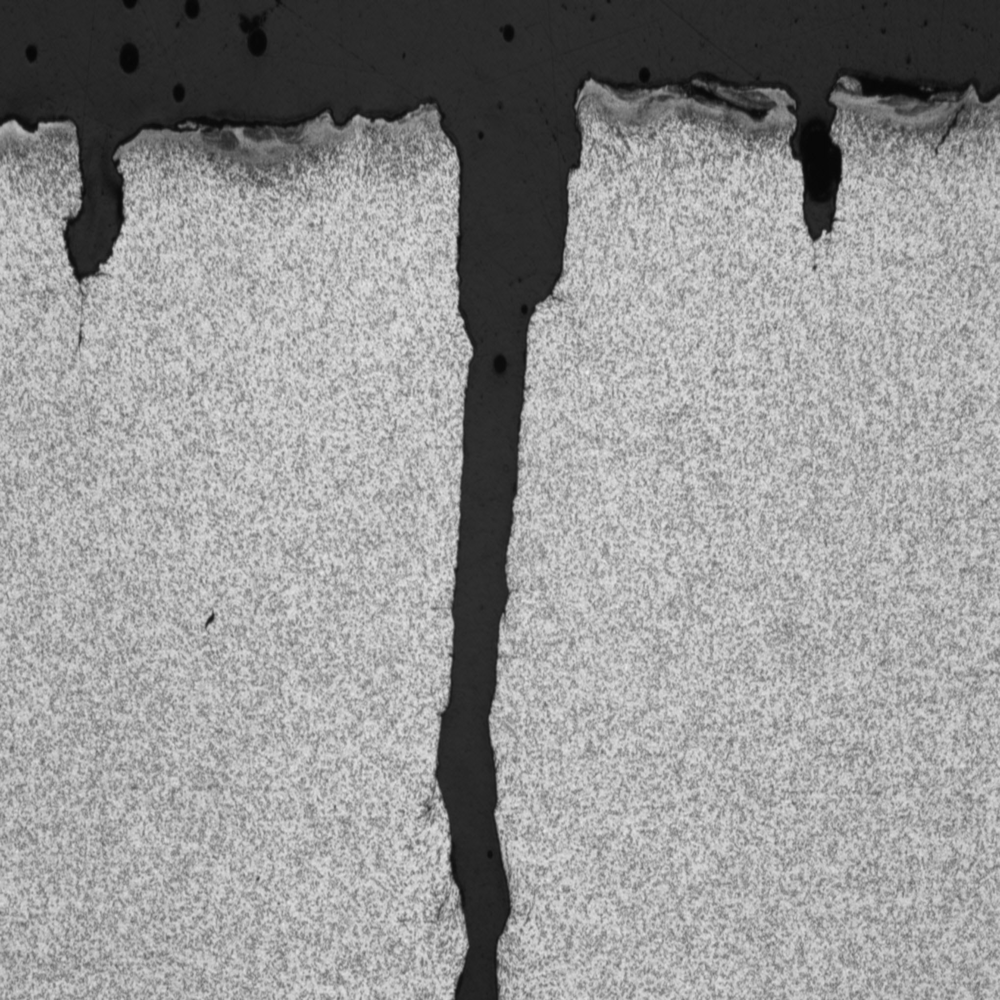crack: (403, 65, 582, 1000), (43, 108, 154, 311), (776, 56, 858, 264)
